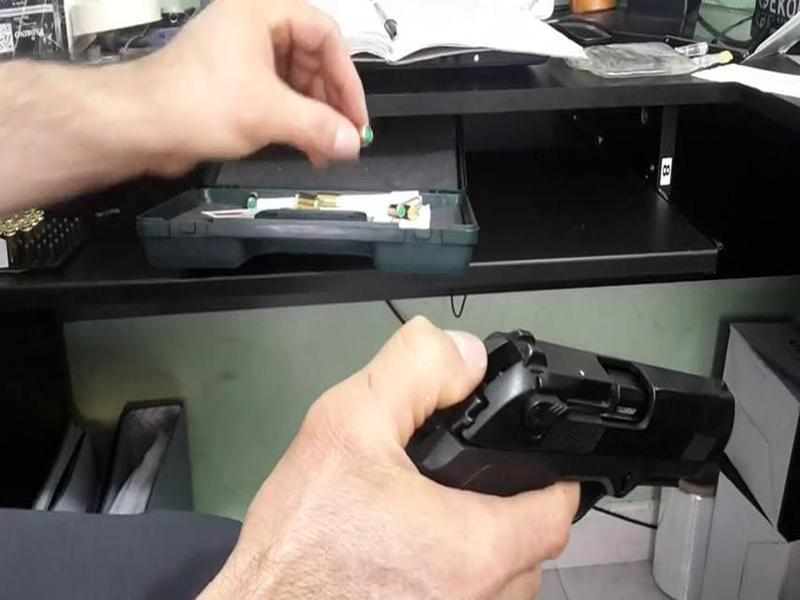Pistola: (371, 300, 753, 554)
